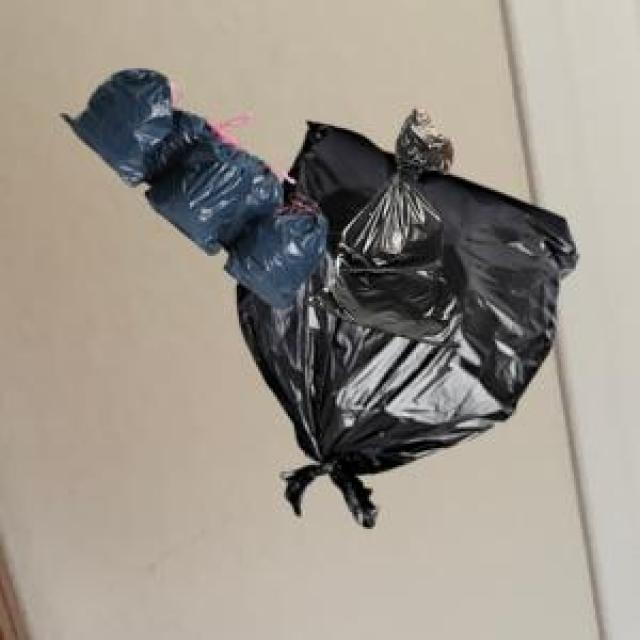waste: (62, 74, 575, 526)
